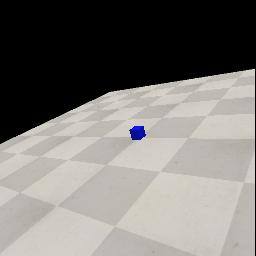box: (129, 126, 146, 140)
